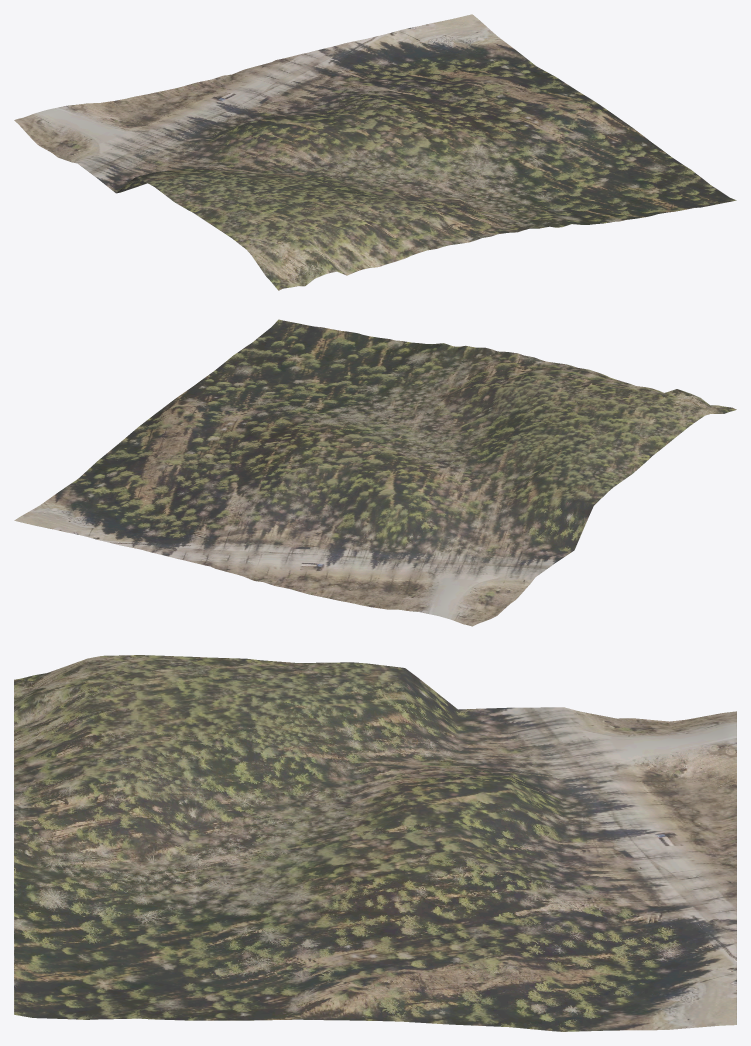
The model's file is CM_Terrain_24493121_6815698.fbx.
3 views of the same model, one above another, from view 1: azimuth 30°, elevation 25°; view 2: azimuth 150°, elevation 25°; view 3: azimuth 270°, elevation 25° (orthographic). The views are drawn at different scales.
Parts seen in each view (by area): view 1: CM_Terrain_24493121_6815698_LOD0; view 2: CM_Terrain_24493121_6815698_LOD0; view 3: CM_Terrain_24493121_6815698_LOD0.
Part boxes in pixels (box(x1,y1,x2,y2)): CM_Terrain_24493121_6815698_LOD0: box(14, 14, 736, 290); CM_Terrain_24493121_6815698_LOD0: box(14, 319, 736, 626); CM_Terrain_24493121_6815698_LOD0: box(14, 655, 736, 1031).
Size of what is drawn, in the model's own units: 205 by 24.24 by 205.
